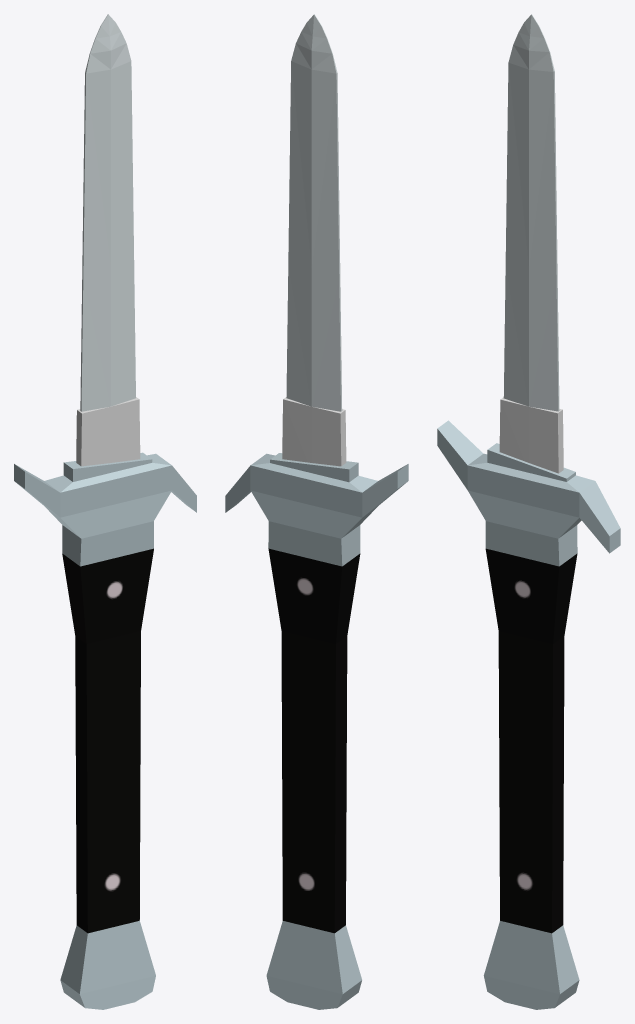
The model's file is SwitchBlade-Blade out.dae.
The picture shows the model from 3 angles, left to right: view 1: azimuth 30°, elevation 25°; view 2: azimuth 150°, elevation 25°; view 3: azimuth 330°, elevation 25°; orthographic projection.
Parts seen in each view (by area): view 1: Cube; view 2: Cube; view 3: Cube.
Boxes of the visible parts, left/top/right/bottom form: Cube: left=14, top=14, right=196, bottom=1009; Cube: left=225, top=14, right=408, bottom=1009; Cube: left=437, top=14, right=620, bottom=1009.
Bounding box in the file's own units: 0.0373 × 0.00827 × 0.2036.
Materials: 4 (1 with a texture image).
